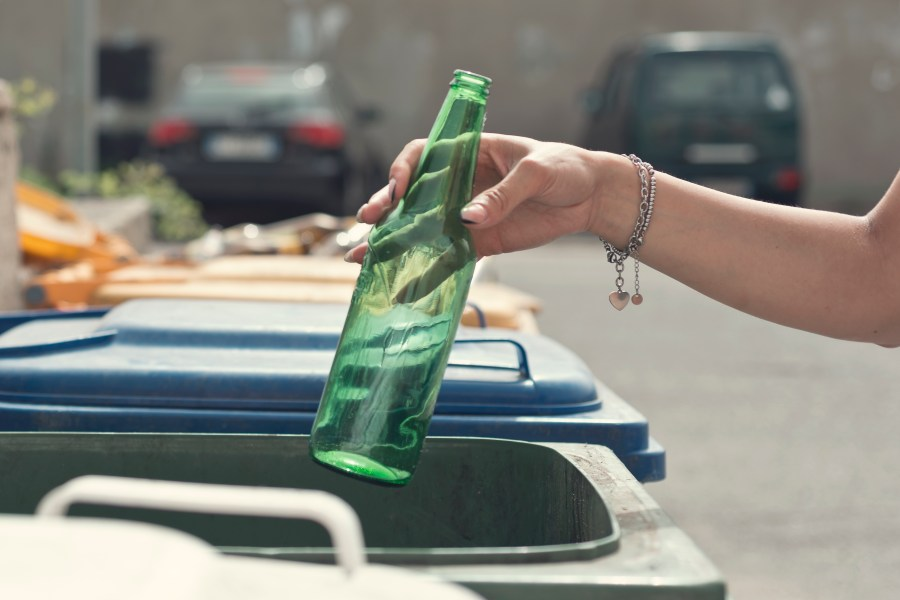glass_bottle: (301, 60, 498, 497)
